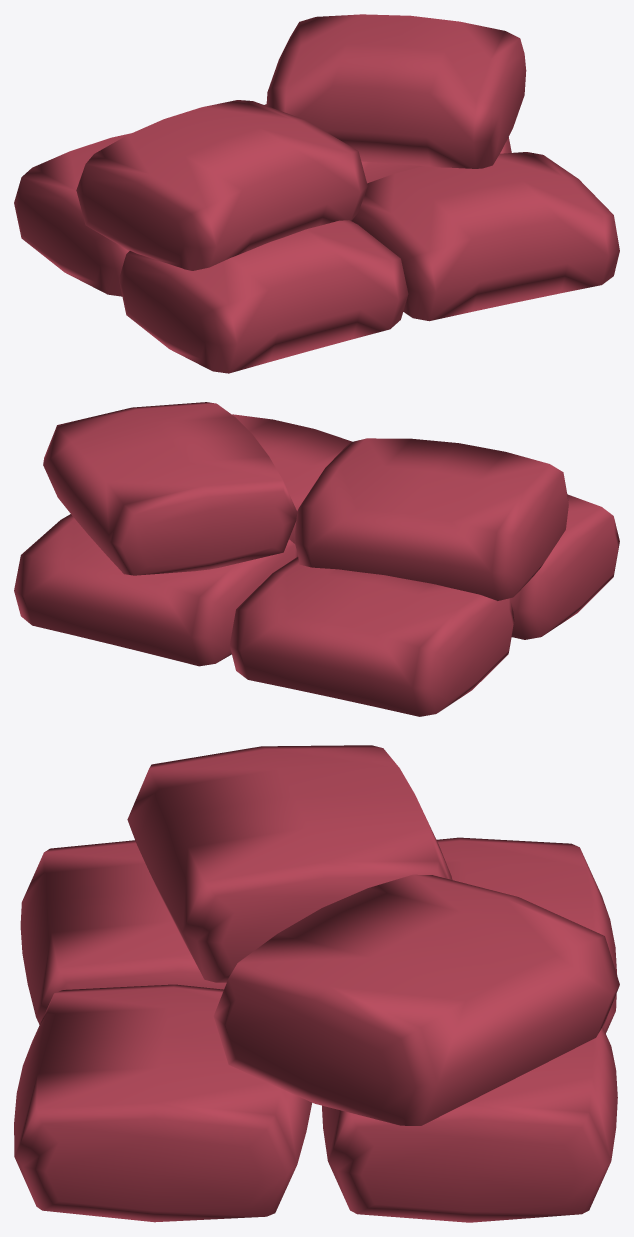
File: flour_bag_03.fbx
The picture shows the model from 3 angles, top to bottom: view 1: azimuth 30°, elevation 25°; view 2: azimuth 150°, elevation 25°; view 3: azimuth 270°, elevation 25°; orthographic projection. The views are drawn at different scales.
Visible parts, largest first — view 1: flour_bags; view 2: flour_bags; view 3: flour_bags.
Boxes of the visible parts, <box> form: flour_bags: <box>14,14,619,373</box>; flour_bags: <box>14,402,619,716</box>; flour_bags: <box>14,745,619,1222</box>.
Size of the model in its own units: 1.66 by 0.5736 by 1.35.
